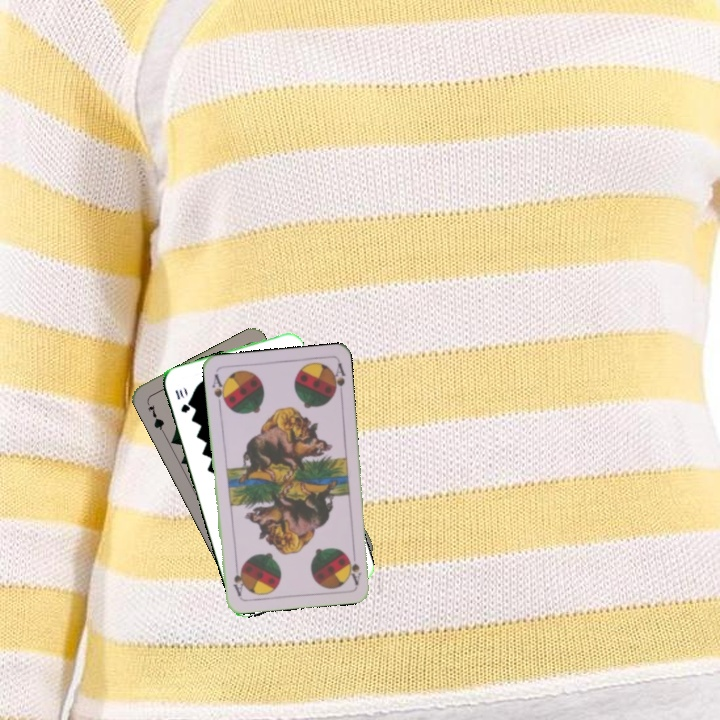G10: (171, 384, 193, 415)
G7: (143, 397, 167, 435)
SA: (208, 370, 229, 410), (345, 546, 363, 587)
